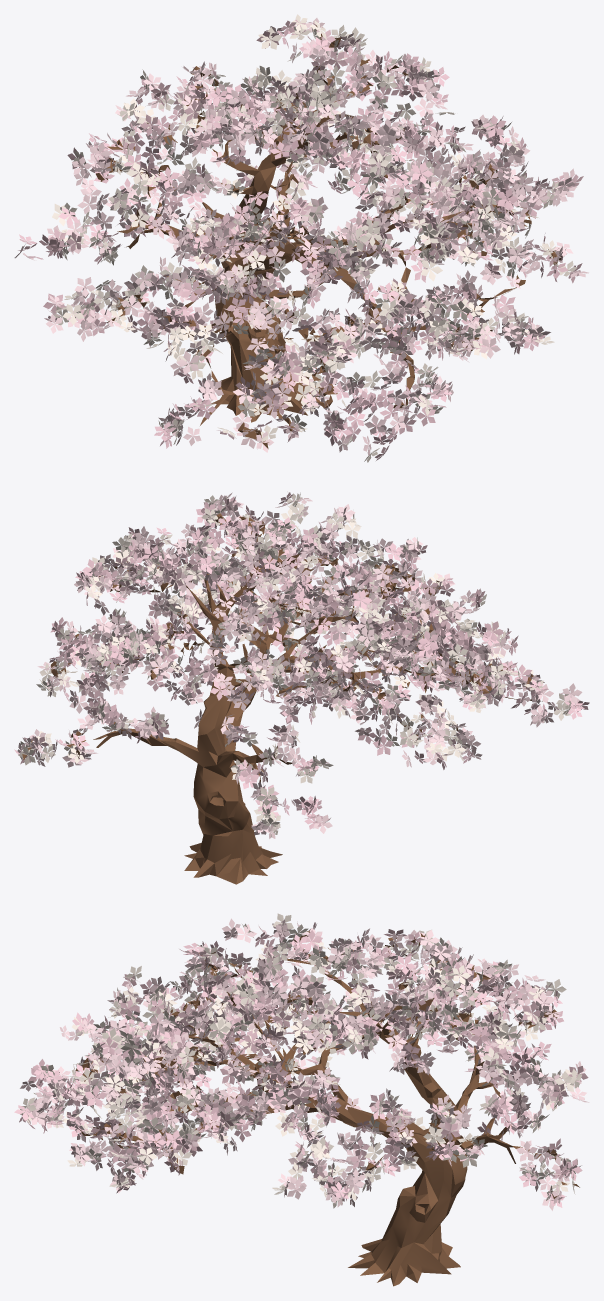
Rendered from CP01-recovered-LOD1.glb.
3 views of the same model, one above another, from view 1: azimuth 30°, elevation 25°; view 2: azimuth 150°, elevation 25°; view 3: azimuth 270°, elevation 25° (orthographic). The views are drawn at different scales.
Visible parts, largest first — view 1: CP01_LOD1_rebuilt_blossoms, CP01_LOD1_bark; view 2: CP01_LOD1_rebuilt_blossoms, CP01_LOD1_bark; view 3: CP01_LOD1_rebuilt_blossoms, CP01_LOD1_bark.
Part boxes in pixels (left/top/right/bottom): CP01_LOD1_rebuilt_blossoms: left=14, top=14, right=588, bottom=462; CP01_LOD1_bark: left=96, top=25, right=562, bottom=448; CP01_LOD1_rebuilt_blossoms: left=14, top=491, right=589, bottom=838; CP01_LOD1_bark: left=22, top=513, right=542, bottom=884; CP01_LOD1_rebuilt_blossoms: left=14, top=913, right=589, bottom=1210; CP01_LOD1_bark: left=74, top=931, right=579, bottom=1286.
Bounding box in the file's own units: 12.73 × 8.62 × 13.57.
